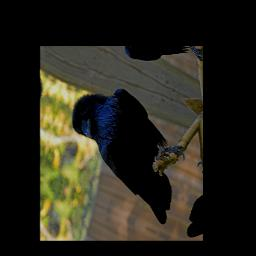Crow: (57, 68, 193, 227)
